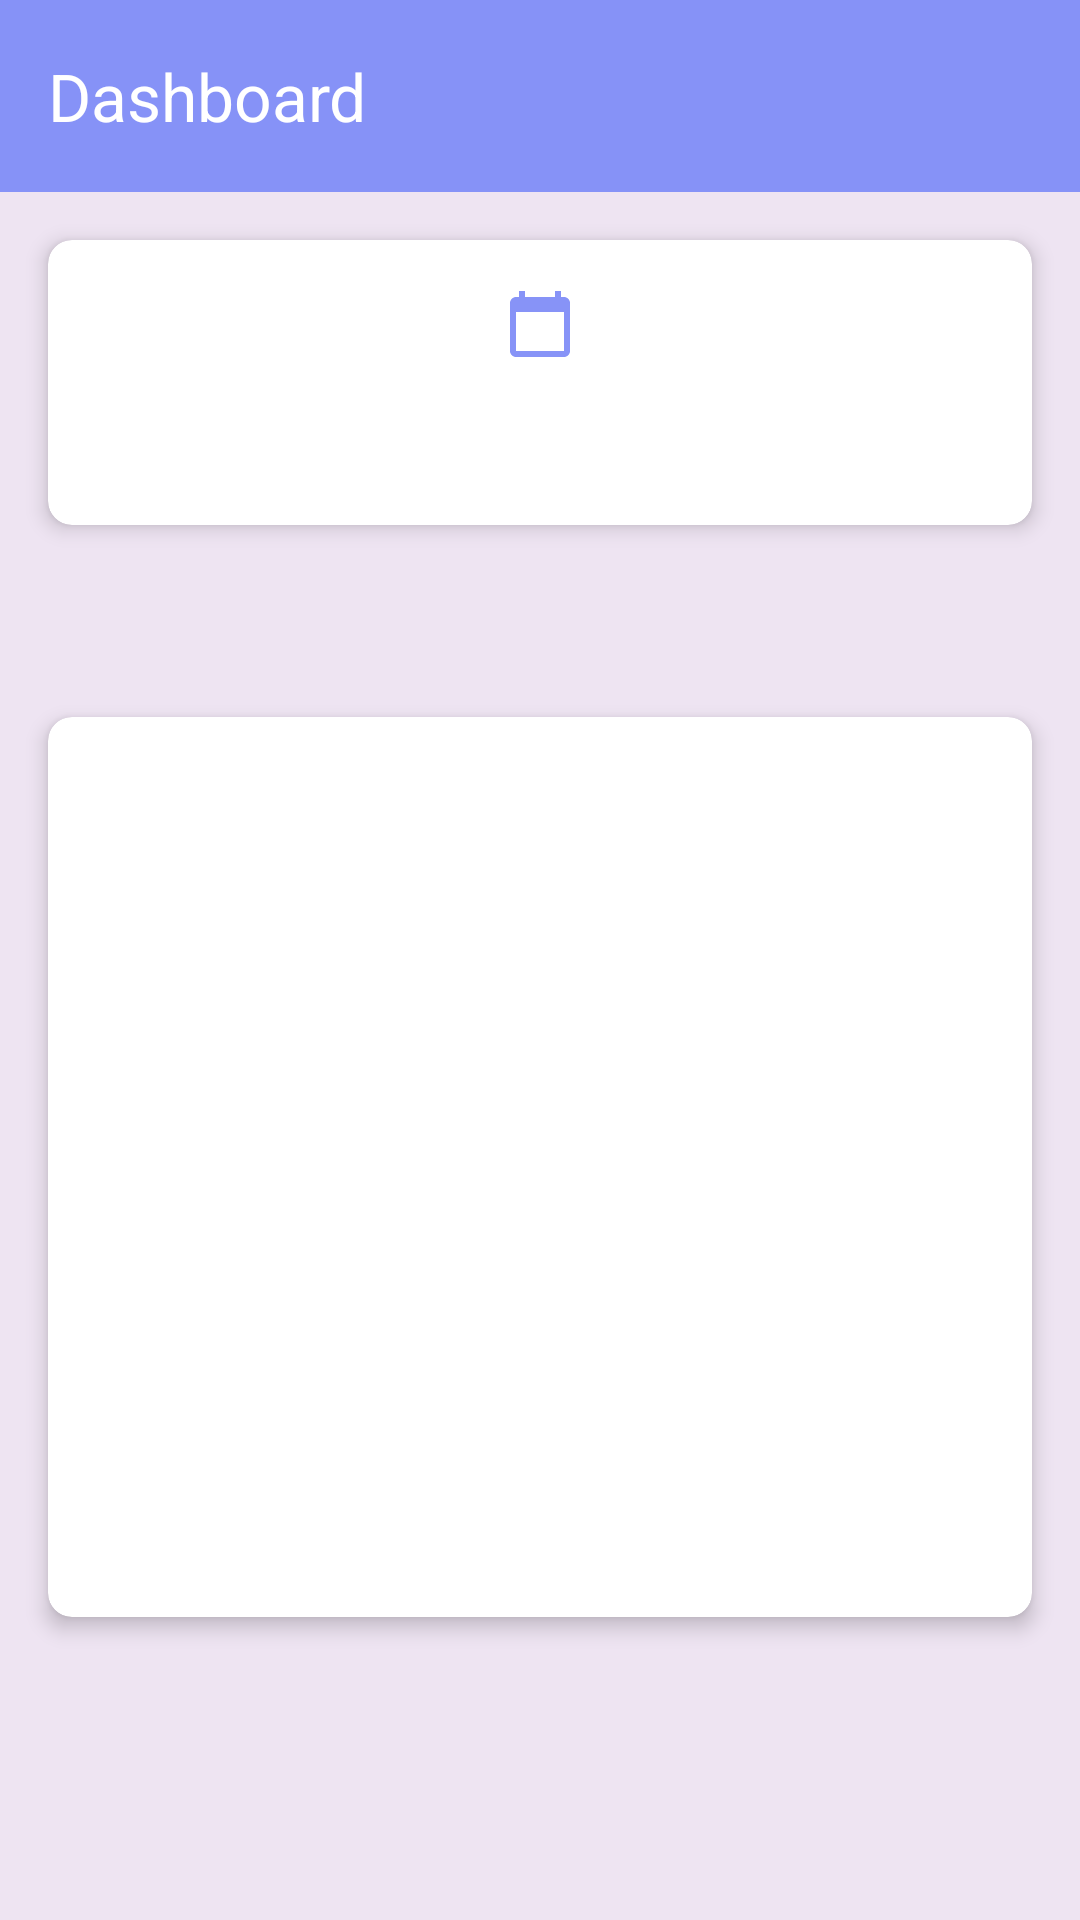

Icon bounding boxes for this 1080 x 1920 phone screenshot, format {"left": x1, "top": y1, "right": x2, "bottom": y2}:
Calendar Icon: {"left": 510, "top": 291, "right": 570, "bottom": 357}
